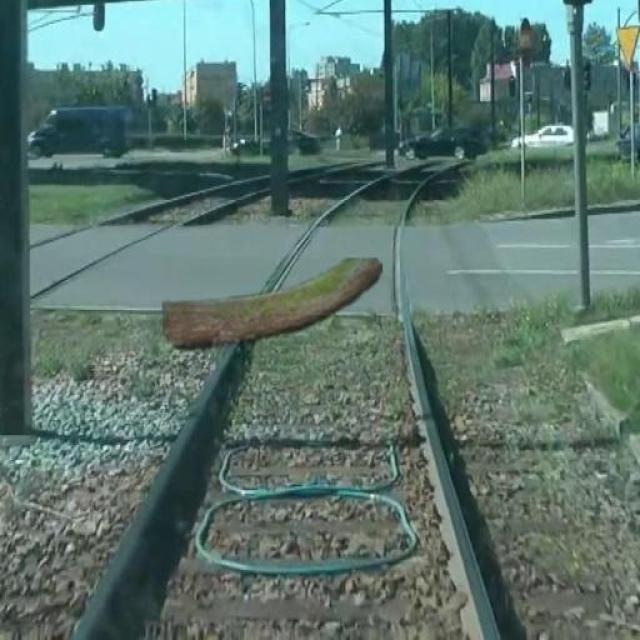Branches: (150, 250, 385, 346)
vehicle: (397, 116, 498, 164)
